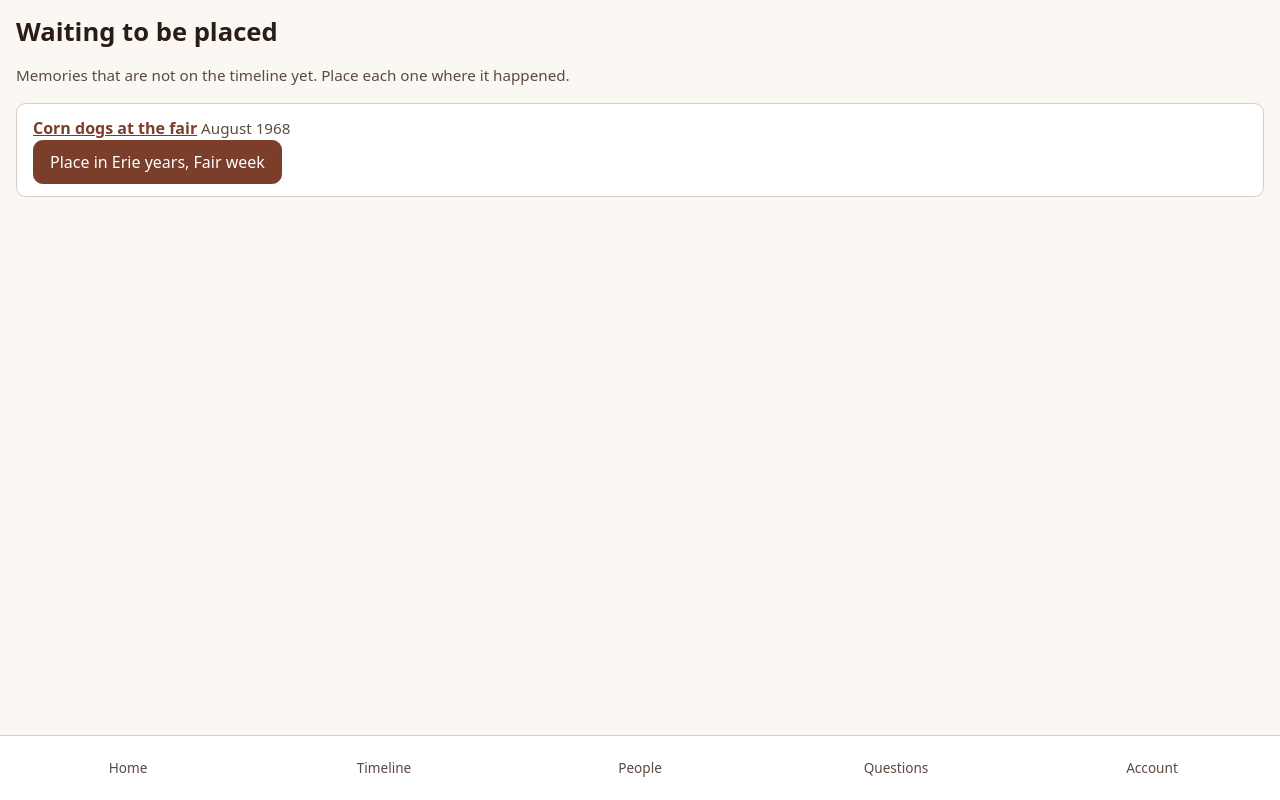
Scenario: the inbox places a memory with one tap and empties
The image size is (1280, 800).
Click the button "Place in Erie years, Fair week".
click(157, 162)  # box [33,140,282,184]
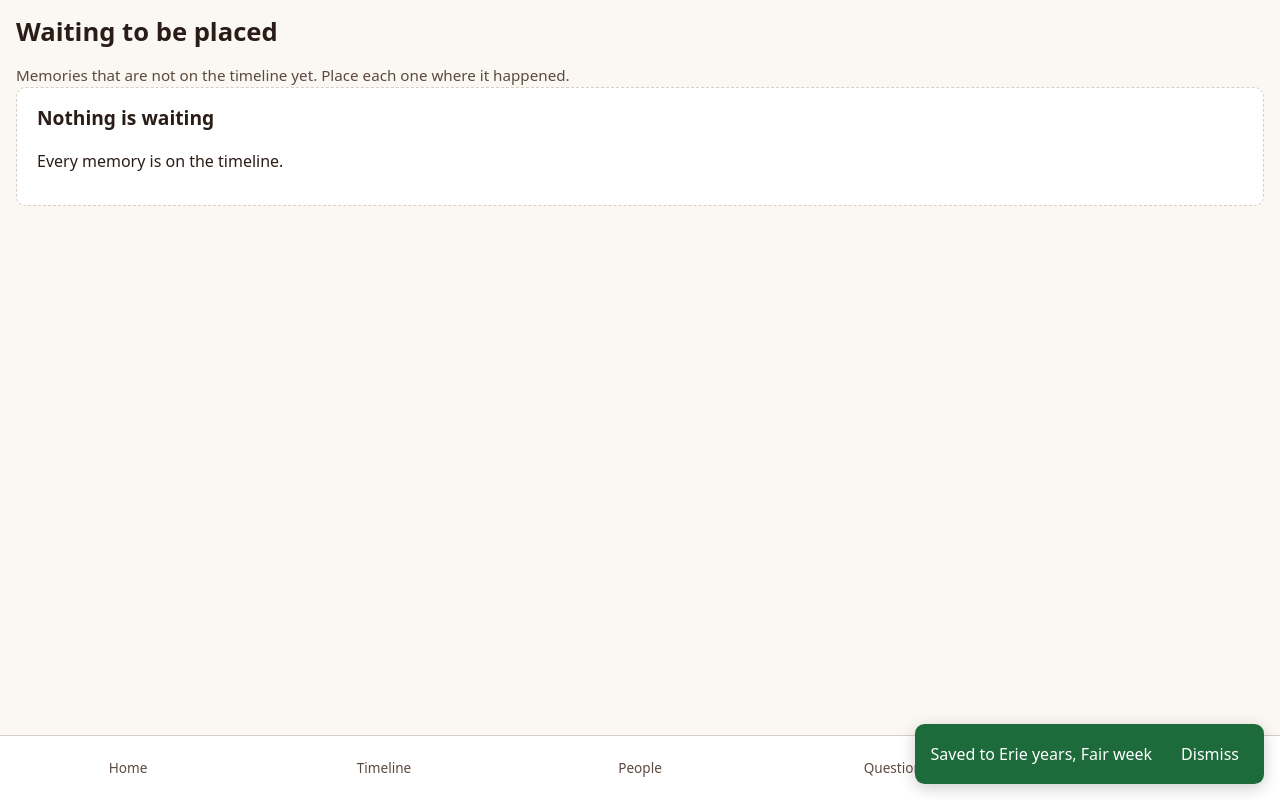
expect the heading "Nothing is waiting" is shown: met, box [37,104,214,131]
expect the text "Saved to Erie years, Fair week" is shown: met, box [930,742,1152,766]
